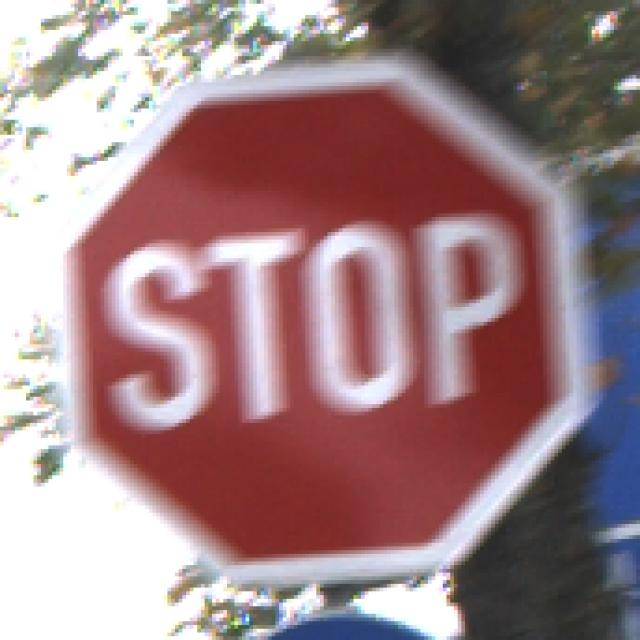STOP: (53, 57, 589, 589)
